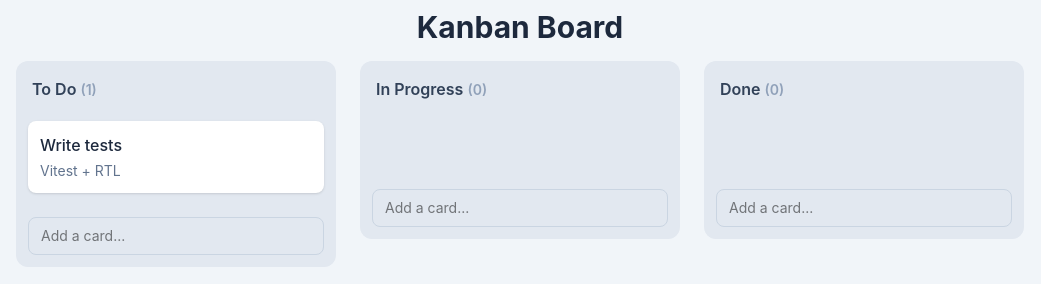
App › adds a card to a column when Enter is pressed
Expected: the text "Write tests" is shown, [40, 135, 122, 155]
Type "  Ship it  " into the field with placeholder "Add a card..." below "In Progress" at (520, 208), box [372, 189, 668, 227]
Then press Enter
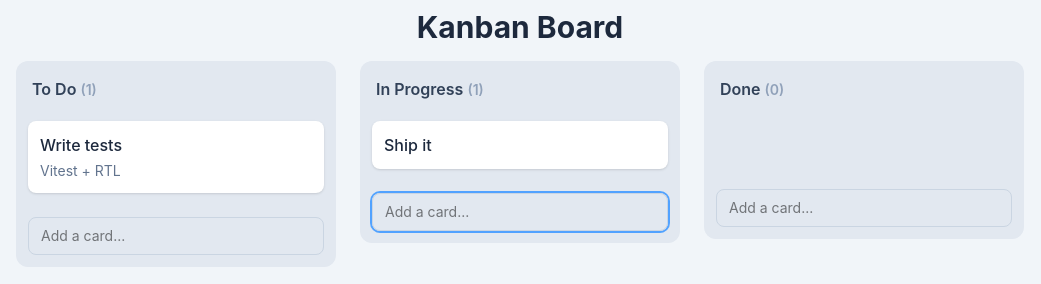
Expected: the text "Ship it" is shown, [384, 135, 432, 155]
